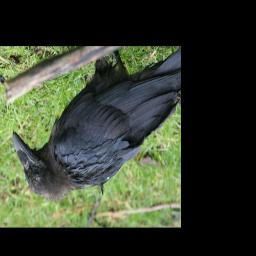Crow: (10, 47, 180, 202)
